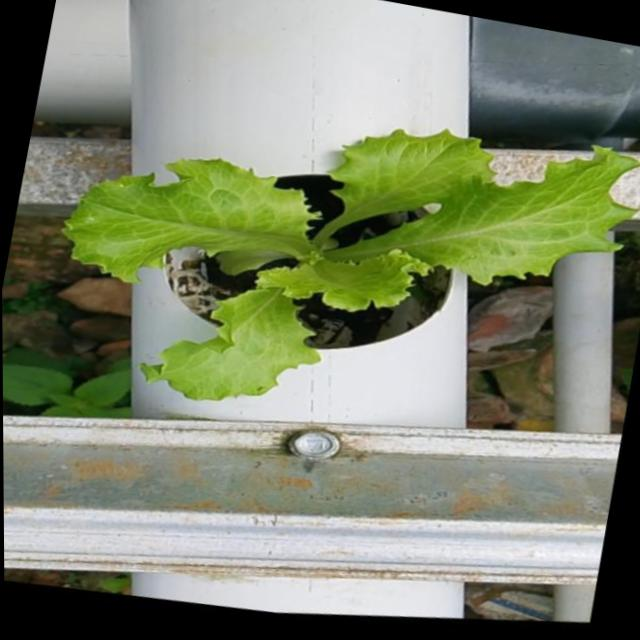Baby: (60, 130, 639, 400)
